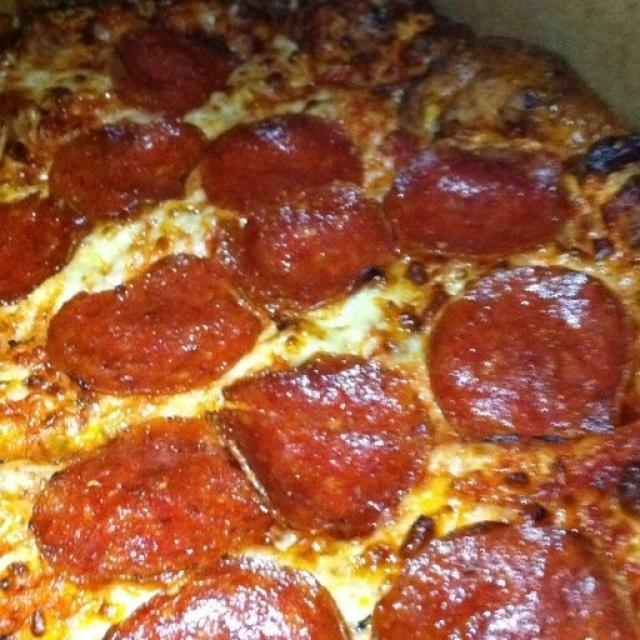Pepperoni: (443, 270, 622, 436), (43, 425, 262, 546), (232, 378, 424, 510), (396, 531, 624, 640), (62, 270, 259, 382), (406, 152, 570, 261), (114, 574, 344, 640), (242, 194, 395, 282), (57, 120, 201, 210), (208, 116, 362, 194), (114, 25, 237, 110), (7, 199, 67, 287)
Pizza: (2, 0, 640, 640)
